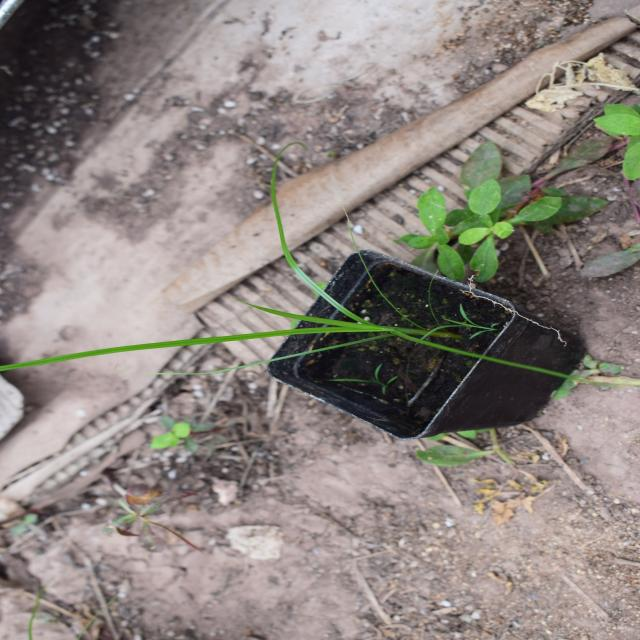sedge: (216, 12, 429, 548)
